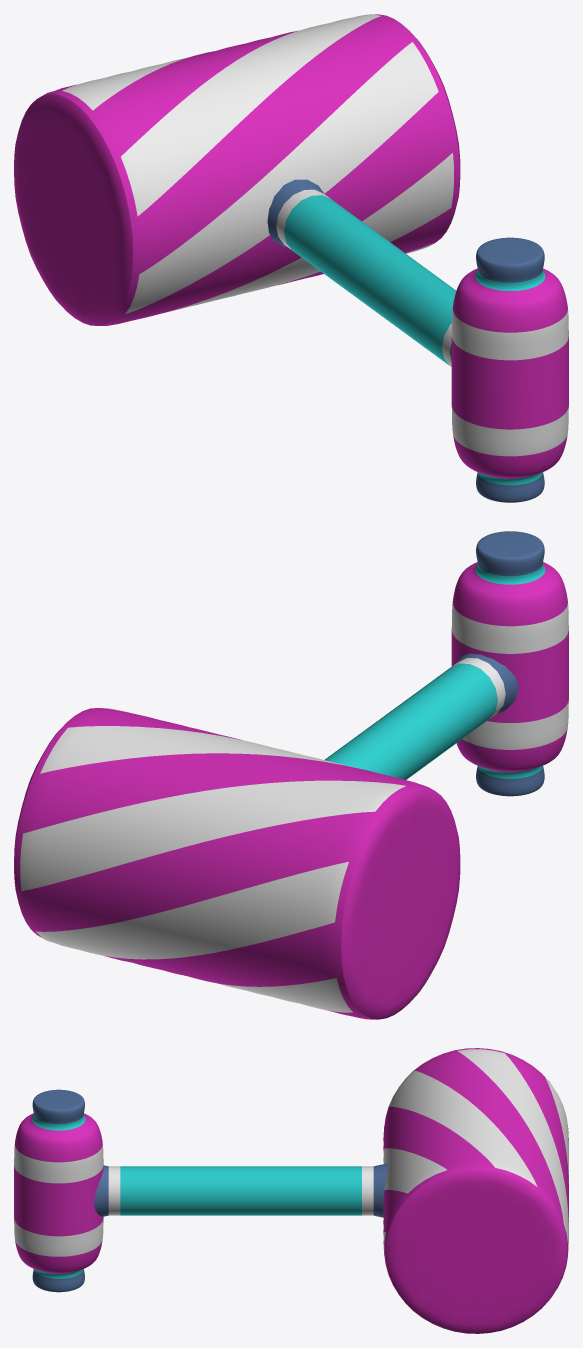
File: Hammer.fbx
The picture shows the model from 3 angles, top to bottom: view 1: azimuth 30°, elevation 25°; view 2: azimuth 150°, elevation 25°; view 3: azimuth 270°, elevation 25°; orthographic projection. The views are drawn at different scales.
Parts seen in each view (by area): view 1: Head, Pivot, Middle; view 2: Head, Pivot, Middle; view 3: Head, Pivot, Middle.
Boxes of the visible parts, <box> form: Head: <box>14,14,460,325</box>; Pivot: <box>451,237,568,502</box>; Middle: <box>267,179,456,366</box>; Head: <box>14,708,460,1019</box>; Pivot: <box>451,531,568,796</box>; Middle: <box>324,653,518,779</box>; Head: <box>383,1048,568,1333</box>; Pivot: <box>14,1089,103,1292</box>; Middle: <box>94,1163,387,1217</box>.
Size of the model in its own units: 300 by 204 by 562.
